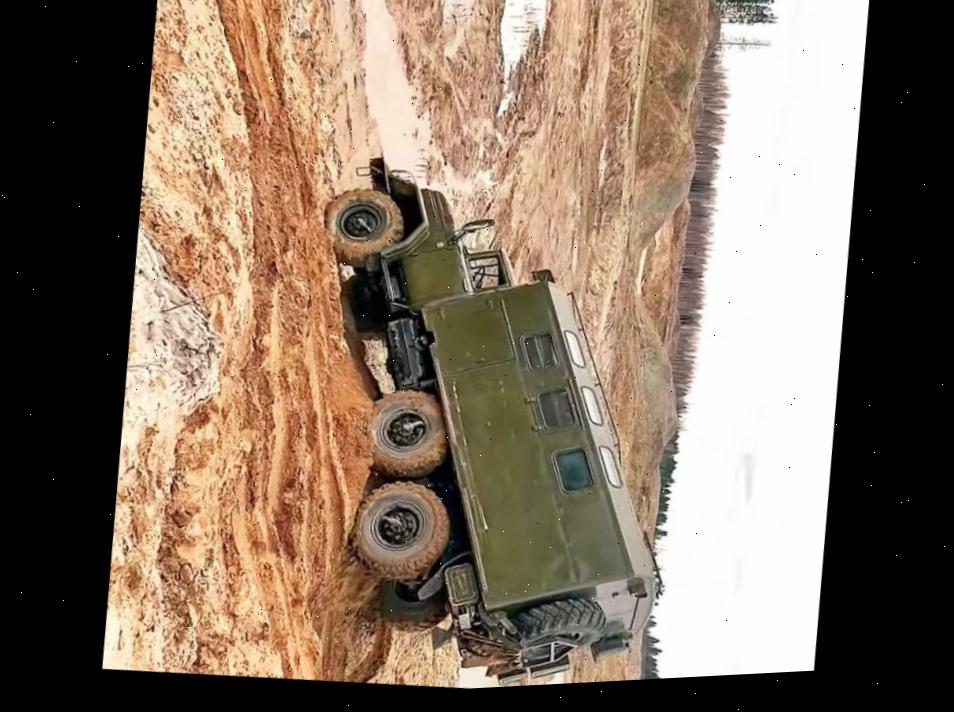truck: (274, 135, 706, 698)
